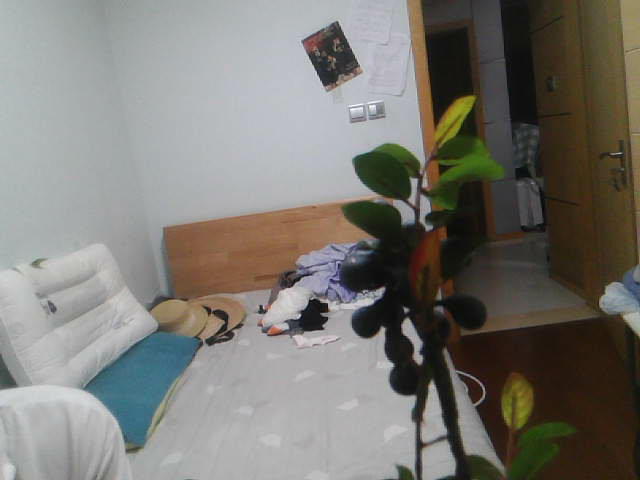blueberry: (371, 323, 426, 363), (434, 238, 474, 280), (450, 297, 493, 331), (373, 280, 417, 310), (445, 196, 474, 232), (385, 364, 419, 394), (337, 255, 373, 278), (344, 308, 375, 333), (386, 222, 403, 262), (407, 226, 420, 245)
